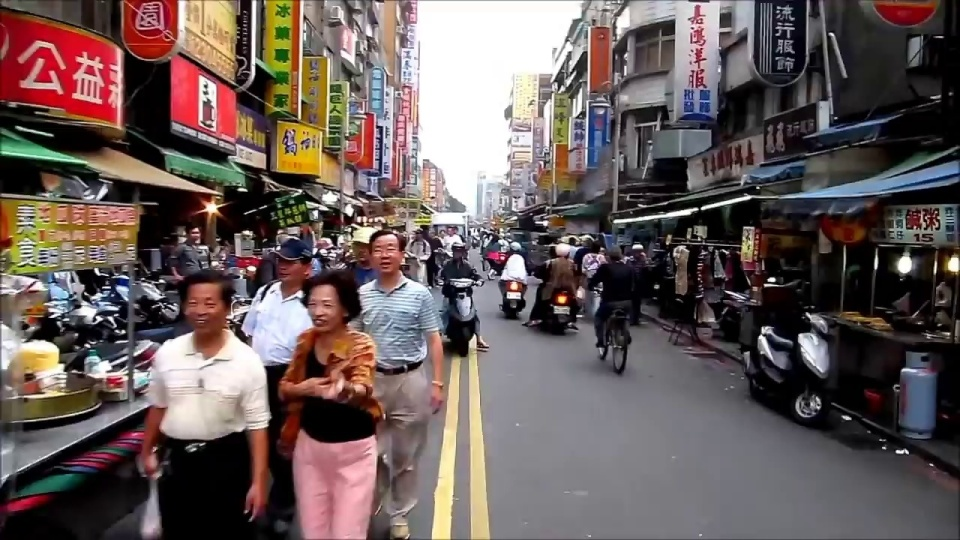person_head: (177, 273, 230, 337), (303, 273, 358, 334), (364, 229, 410, 278), (273, 242, 315, 285), (350, 225, 378, 265), (601, 243, 627, 266), (447, 242, 468, 264), (182, 225, 201, 246), (552, 243, 572, 258), (507, 240, 524, 255), (545, 239, 559, 255), (587, 237, 601, 253), (410, 227, 424, 240), (426, 228, 436, 240), (445, 225, 455, 236)
person_vbox: (134, 271, 274, 540), (276, 265, 387, 540), (354, 225, 447, 535), (240, 237, 313, 461), (521, 234, 586, 332), (440, 241, 490, 360), (590, 238, 639, 359), (542, 238, 583, 339), (343, 222, 379, 294), (497, 237, 529, 312), (172, 222, 214, 278), (580, 234, 607, 315), (403, 223, 432, 289), (440, 222, 468, 284), (423, 222, 441, 287)
